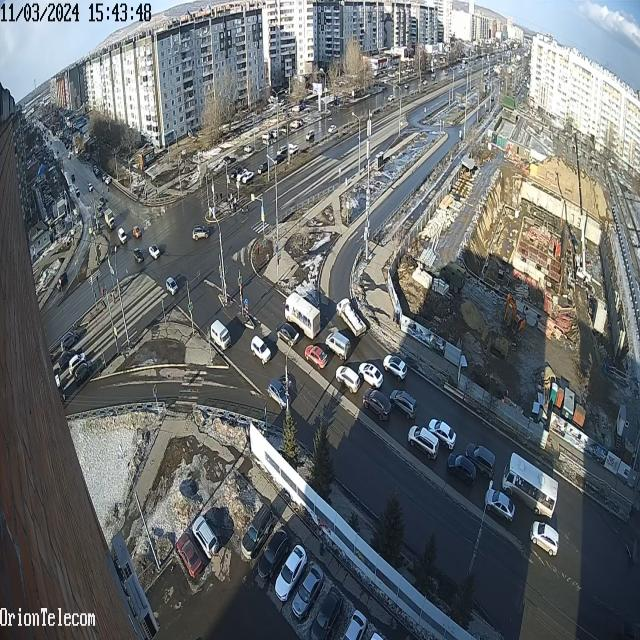car: (500, 451, 558, 522), (274, 542, 308, 604), (309, 583, 345, 640), (241, 501, 275, 561), (258, 523, 292, 582), (292, 562, 324, 624), (284, 288, 322, 340), (335, 296, 367, 342), (191, 514, 221, 560), (176, 532, 205, 579), (406, 422, 439, 461), (465, 441, 496, 482), (483, 487, 515, 526), (446, 451, 476, 491), (530, 519, 560, 559), (362, 386, 391, 425), (428, 416, 456, 454), (388, 387, 419, 421), (334, 361, 362, 394), (267, 378, 292, 413), (208, 317, 232, 353), (326, 330, 352, 363), (382, 352, 408, 382), (304, 341, 329, 372), (273, 320, 299, 349), (358, 360, 383, 390), (343, 610, 368, 640), (250, 333, 272, 366), (74, 359, 96, 389), (60, 328, 80, 354), (60, 344, 76, 373), (69, 351, 87, 376), (55, 268, 69, 296), (190, 224, 210, 243), (102, 208, 116, 233), (165, 276, 179, 299), (132, 245, 145, 267), (241, 168, 254, 189), (148, 242, 161, 262), (117, 226, 129, 246), (132, 225, 142, 242)
